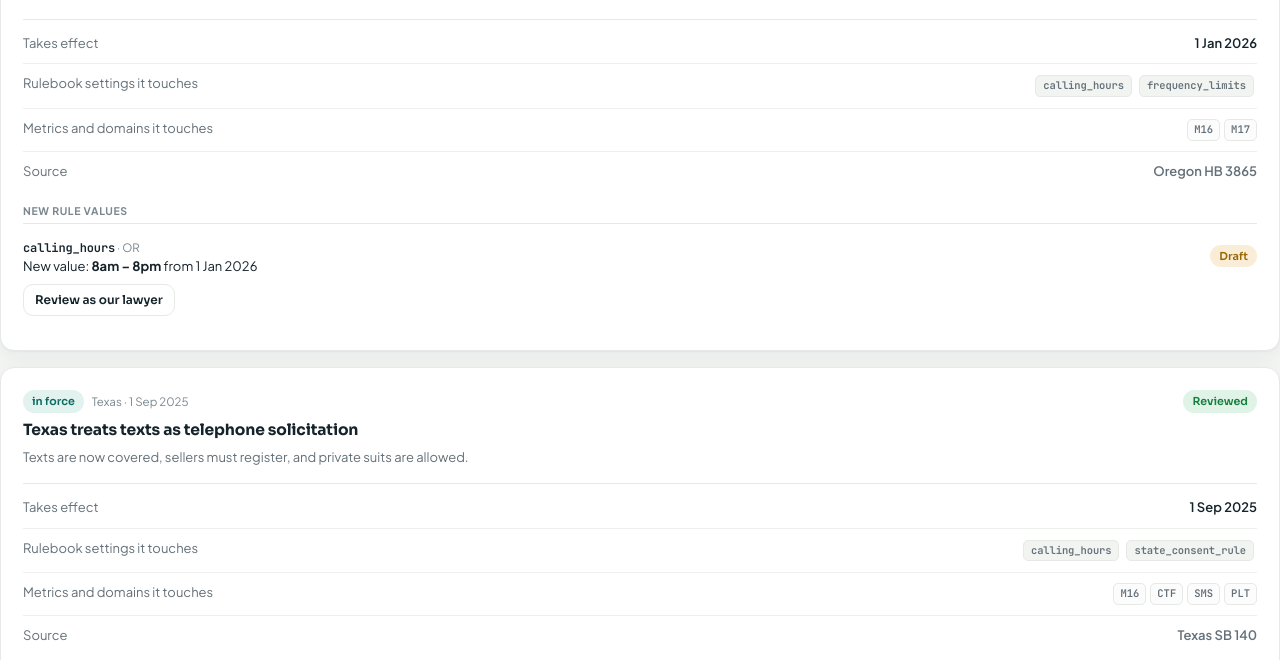
Scenario: interactions › lets only the company lawyer review a draft rule and suggest a change
(page scrolled)
Check: the text "Draft" is shown, box [1210,245,1257,268]
Check: the text "Suggest a change" is not shown
Click the button "Review as our lawyer".
click(99, 300)  # box [23,284,175,316]
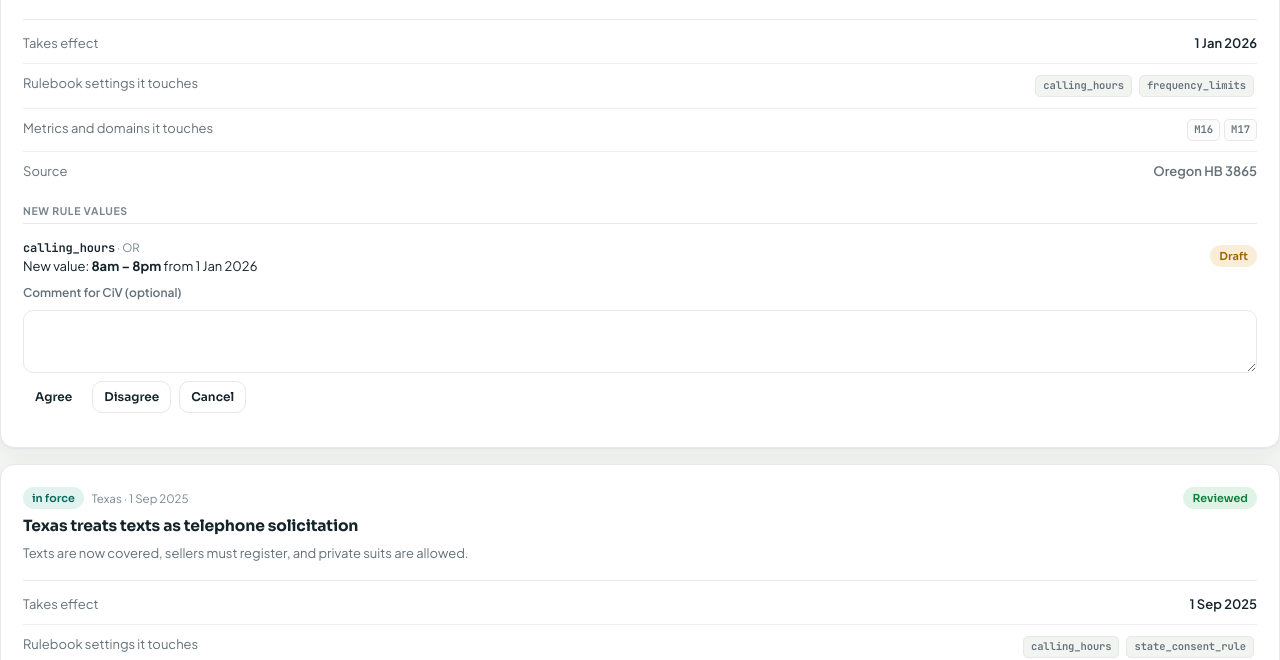
Type "Texts are covered too." into the text box labelled "Comment for CiV (optional)".
click(640, 342); type("Texts are covered too.")  # box [23,310,1257,373]
Click the button "Disagree".
click(132, 397)  # box [92,381,171,413]
(page scrolled)
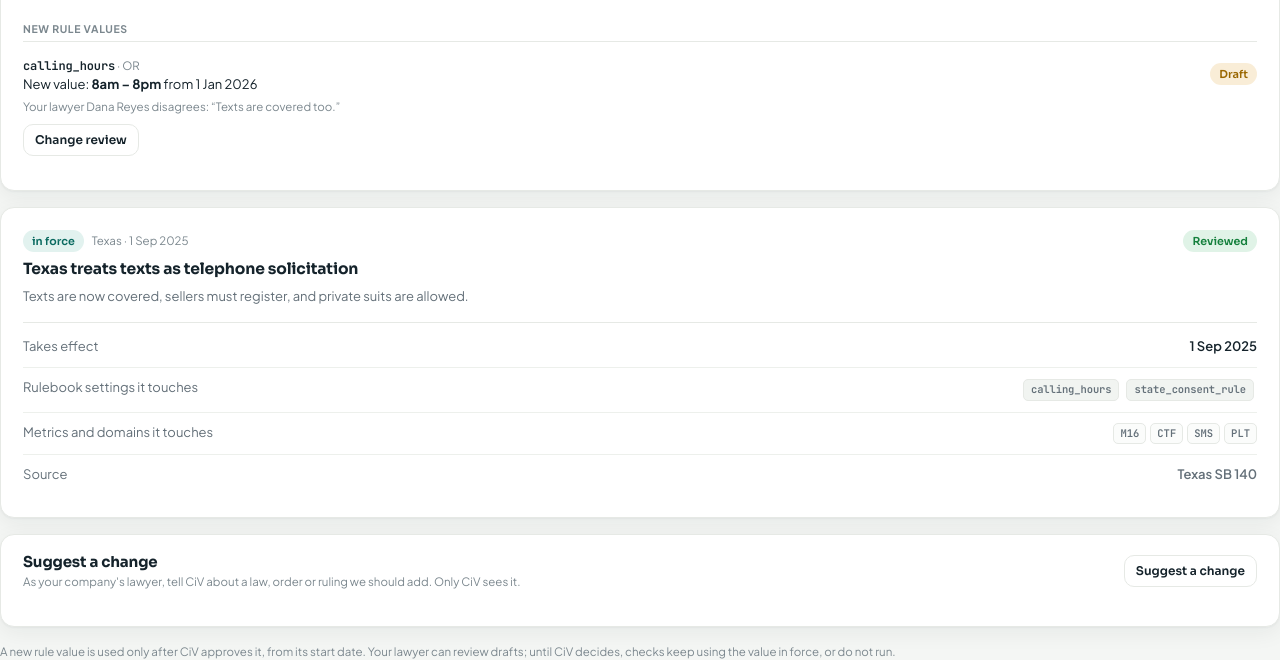
Check: the text "Your lawyer Dana Reyes disagrees: “Texts are covered too.”" is shown, box [23,100,340,114]
Click the button "Suggest a change".
click(1190, 571)  # box [1124,555,1257,587]
(page scrolled)
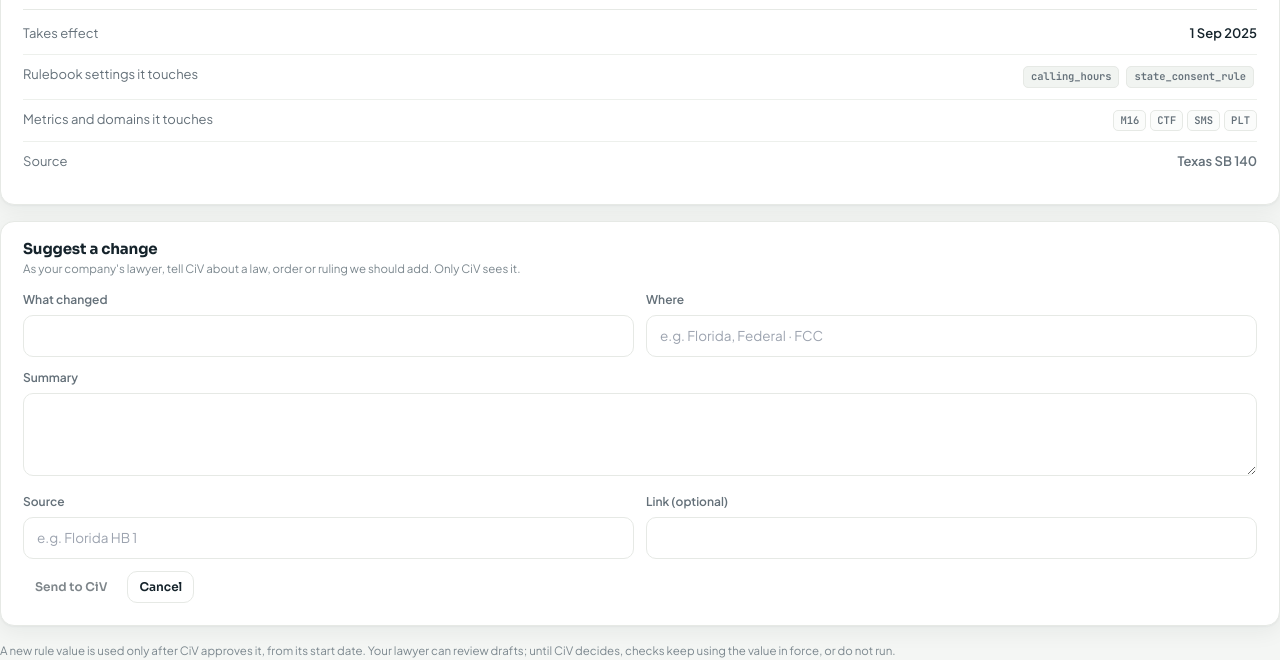
Type "Florida ends calls at 7pm" into the field labelled "What changed".
click(328, 336); type("Florida ends calls at 7pm")  # box [23,315,634,357]
Type "Florida" into the field labelled "Where".
click(952, 336); type("Florida")  # box [646,315,1257,357]
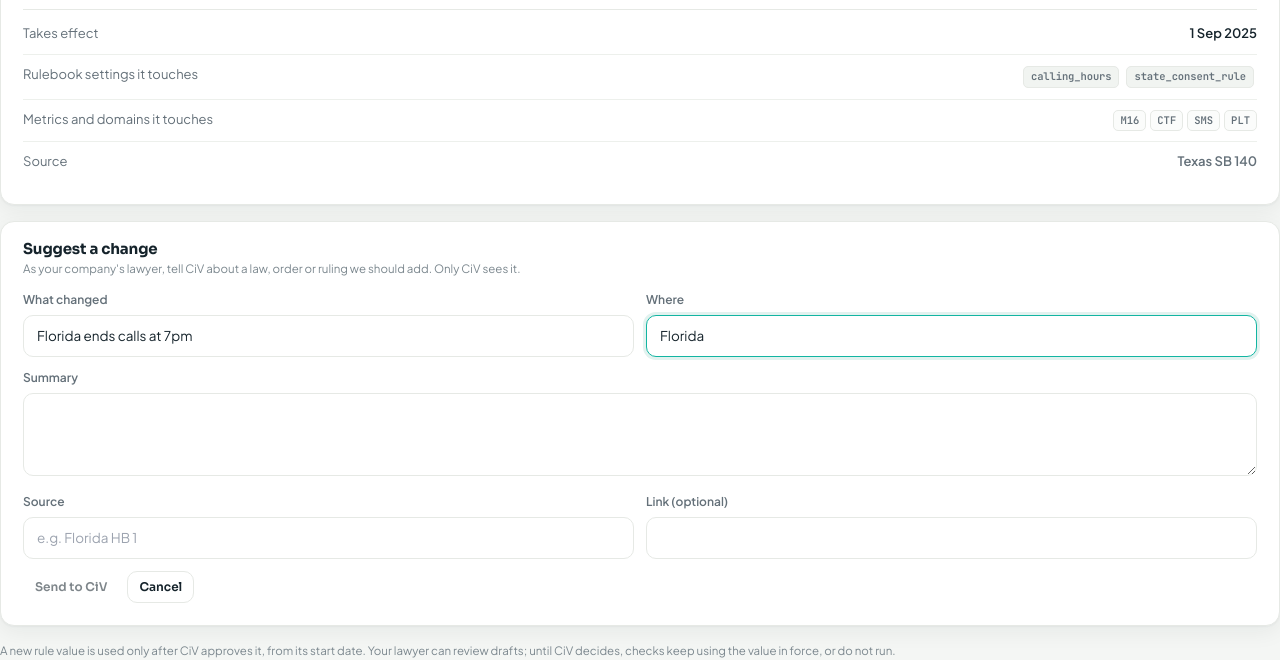
Type "A new bill." into the text box labelled "Summary".
click(640, 435); type("A new bill.")  # box [23,393,1257,476]
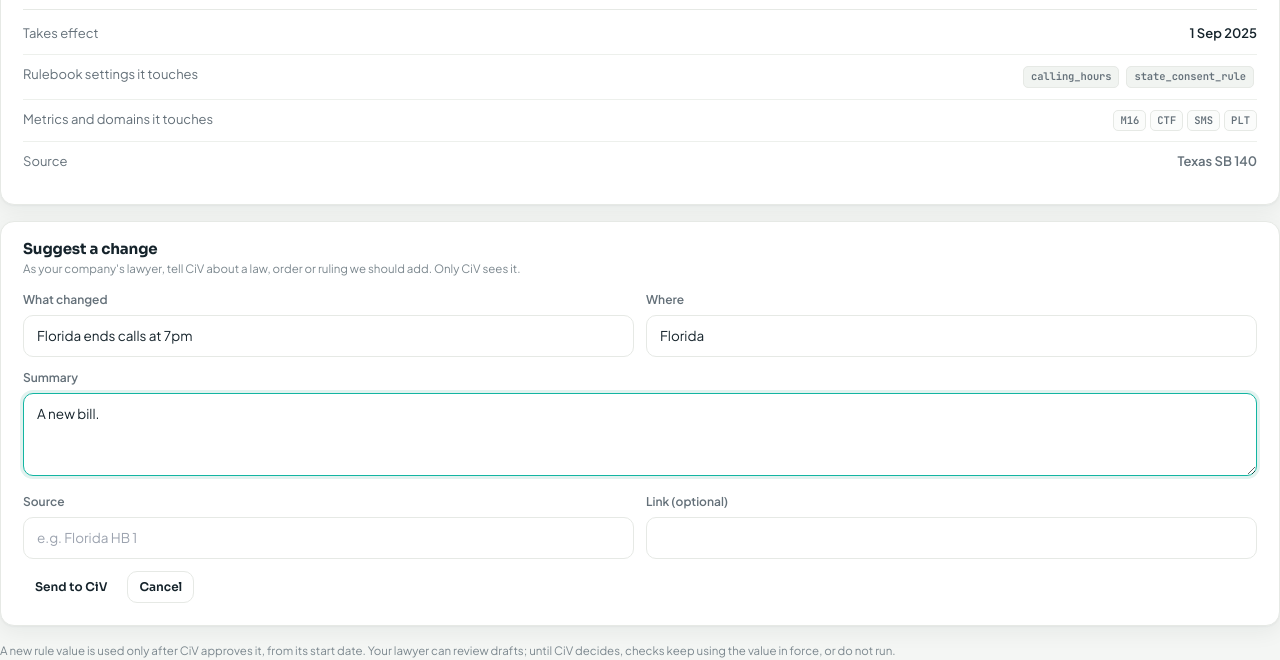
Click the button "Send to CiV".
click(71, 587)  # box [23,571,119,603]
(page scrolled)
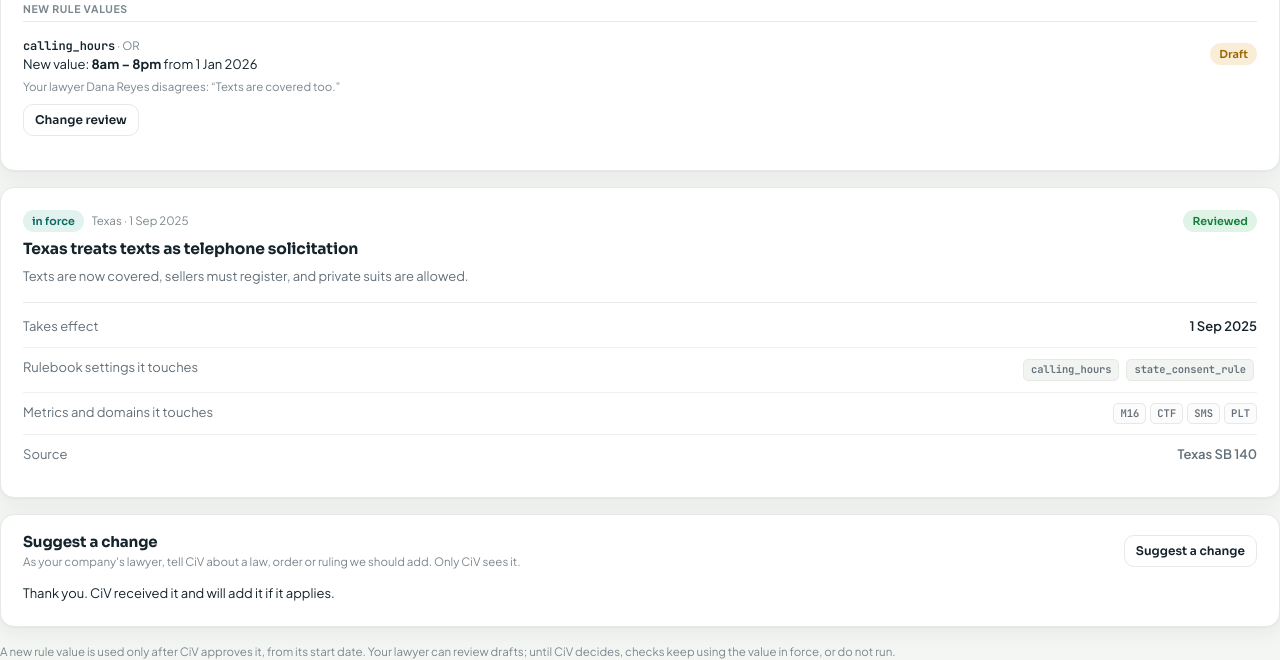
Check: the text "Thank you. CiV received it and will add it if it applies." is shown, box [23,585,335,601]
